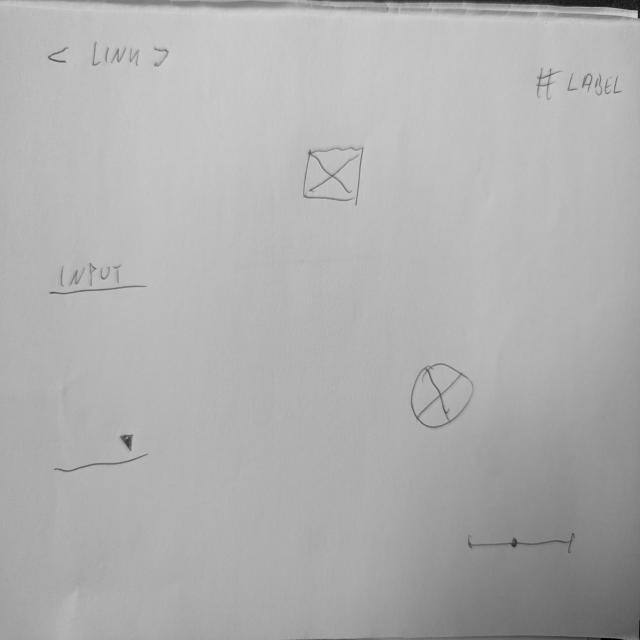image: (409, 361, 479, 434), (300, 143, 369, 208)
input: (48, 260, 151, 300)
label: (534, 64, 626, 107)
link: (47, 40, 174, 74)
select: (53, 426, 152, 481)
slider: (464, 527, 580, 558)
